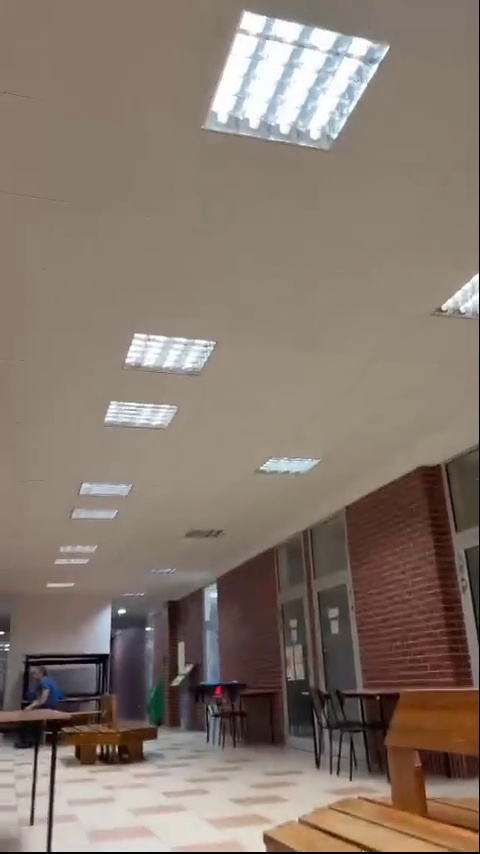drone: (192, 681, 245, 699)
no vest: (27, 662, 65, 717)
